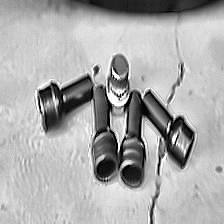cracked: (161, 12, 187, 106), (146, 134, 167, 223)
